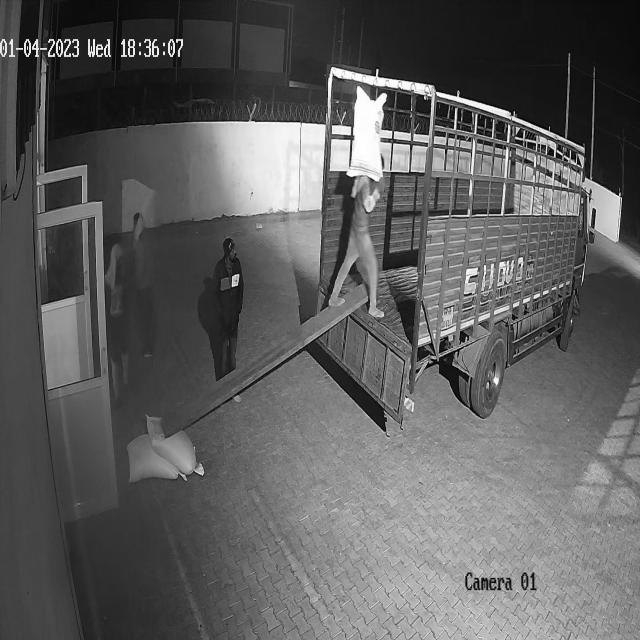sack: (346, 85, 387, 183), (144, 413, 204, 477), (126, 432, 188, 482)
